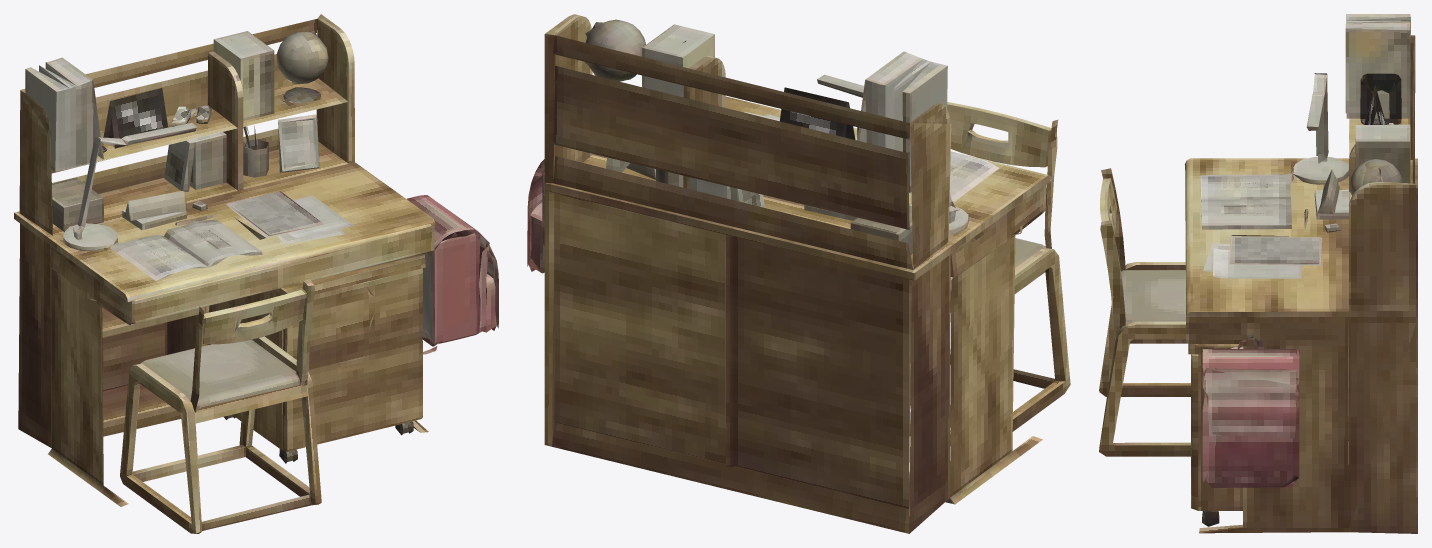
The model's file is writing_desk.glb.
3 views of the same model, side by side, from view 1: azimuth 30°, elevation 25°; view 2: azimuth 150°, elevation 25°; view 3: azimuth 270°, elevation 25° (orthographic). The views are drawn at different scales.
Visible parts, largest first — view 1: writing_desk_src; view 2: writing_desk_src; view 3: writing_desk_src.
Part boxes in pixels (bbox=[...]): writing_desk_src: bbox=[14, 14, 498, 533]; writing_desk_src: bbox=[527, 14, 1070, 533]; writing_desk_src: bbox=[1099, 14, 1417, 533].
Bounding box in the file's own units: 1.26 × 1.14 × 0.8812.
1 material, 1 textured.
